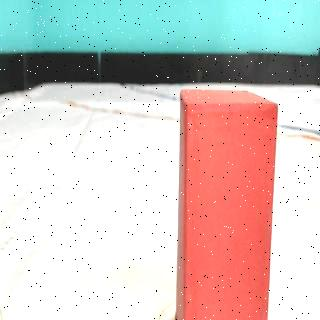redbox: (182, 91, 268, 320)
